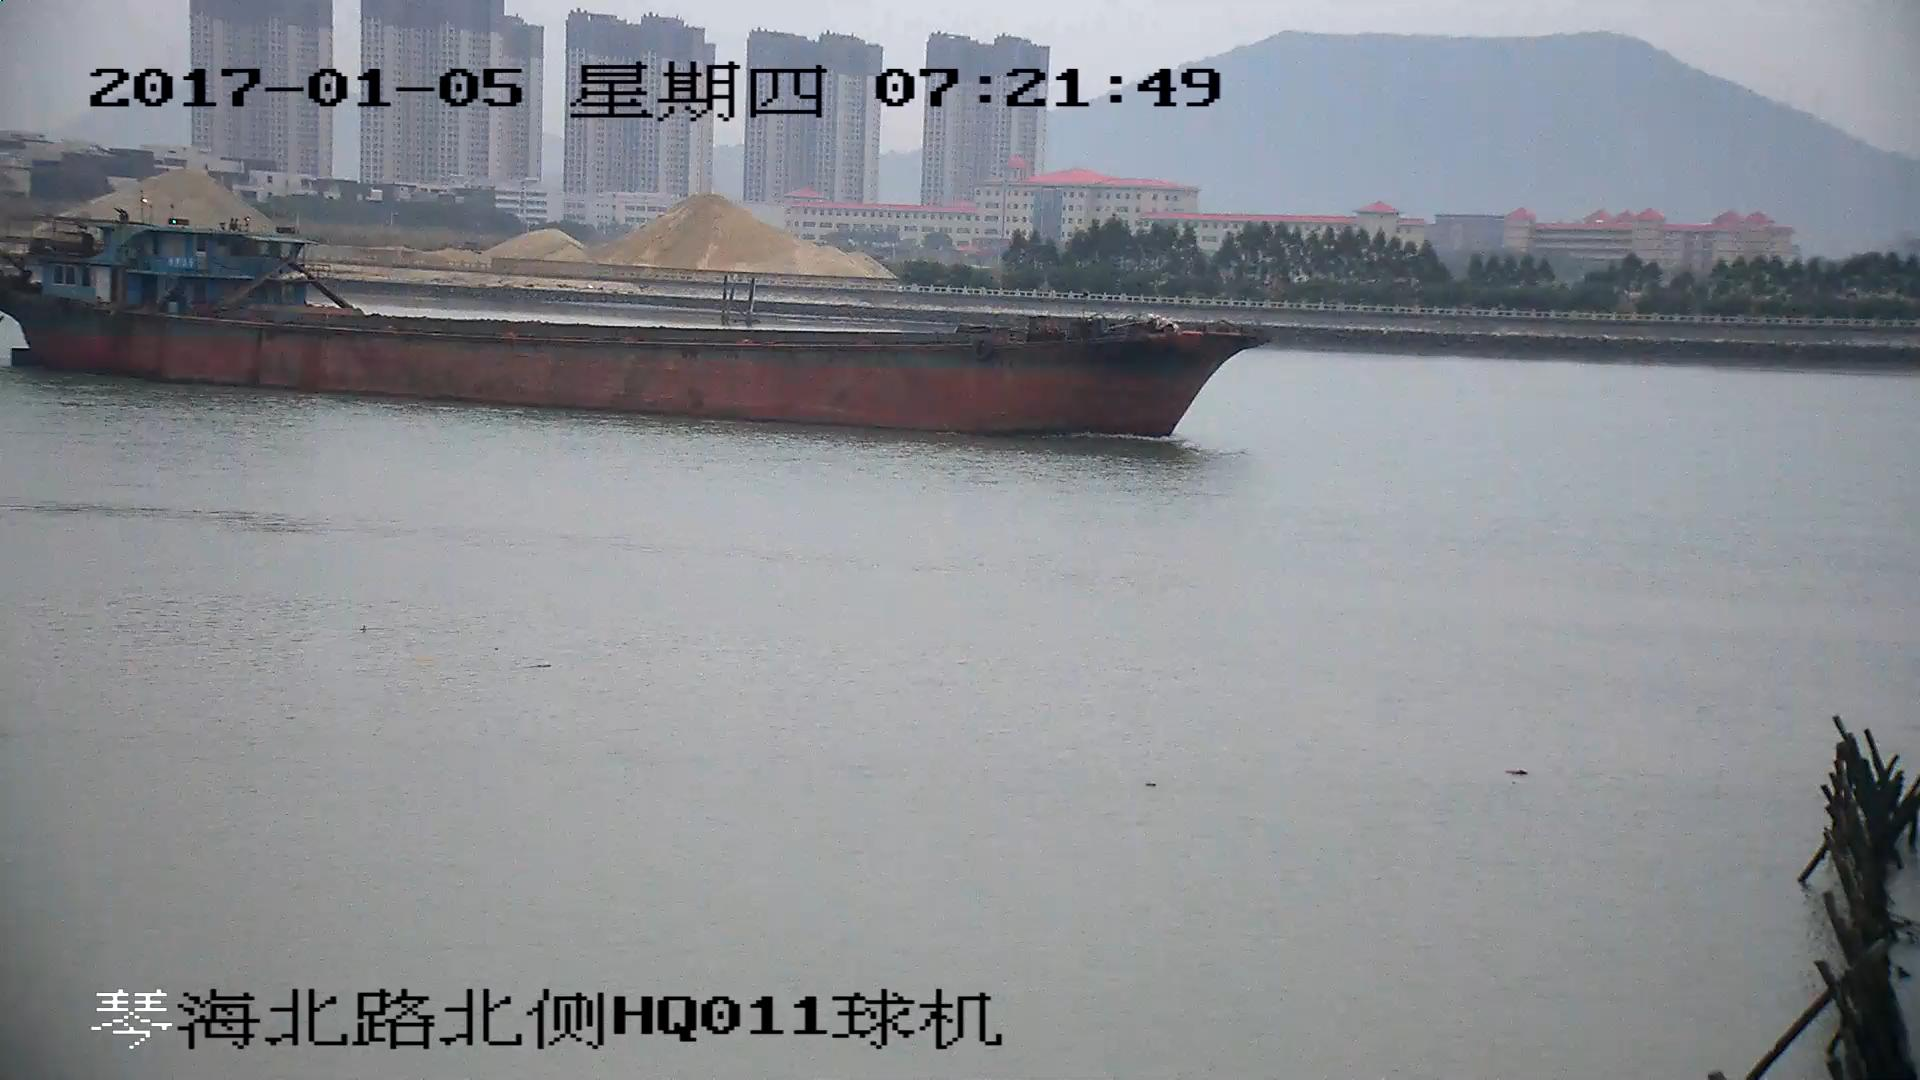bulk cargo carrier: (1, 220, 1276, 438)
